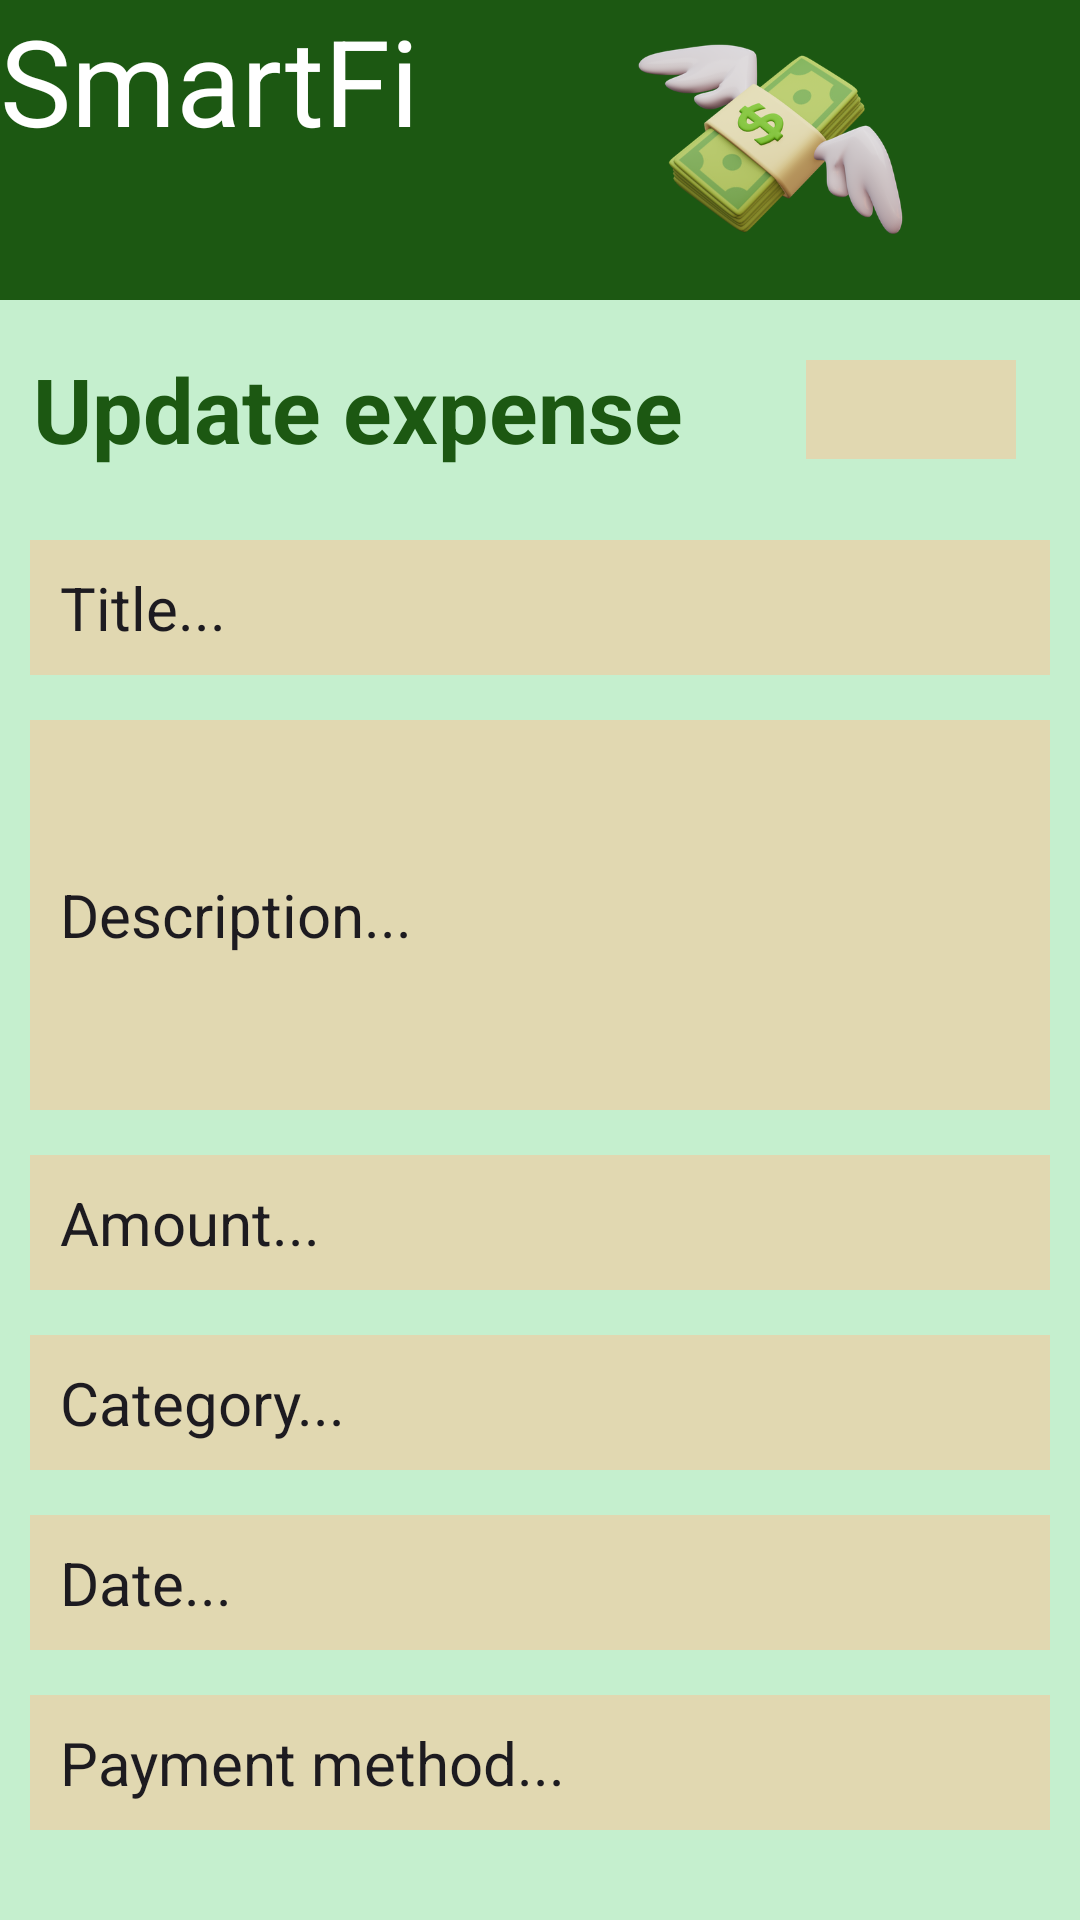

Screen size 1080×1920. Icon name, then its box in pixels as {"left": x1, "top": y1, "right": x2, "bottom": y2}:
flying money: {"left": 638, "top": 44, "right": 903, "bottom": 234}
